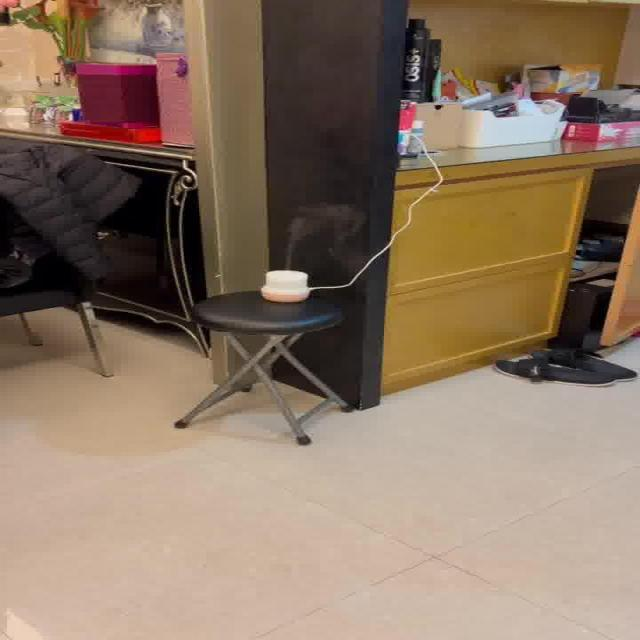fire: (282, 205, 359, 264)
